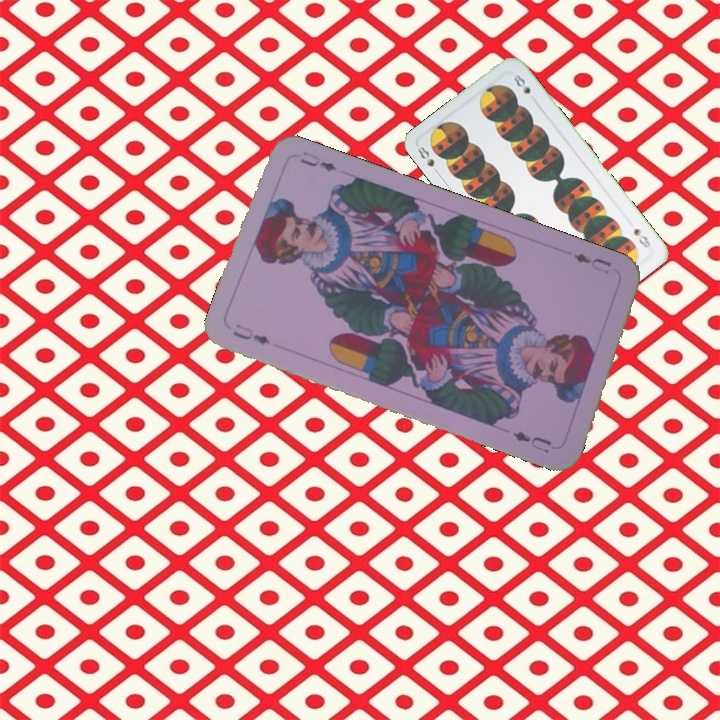EU: (228, 319, 273, 348), (569, 249, 614, 277)
S8: (413, 142, 443, 178), (629, 224, 654, 251)
